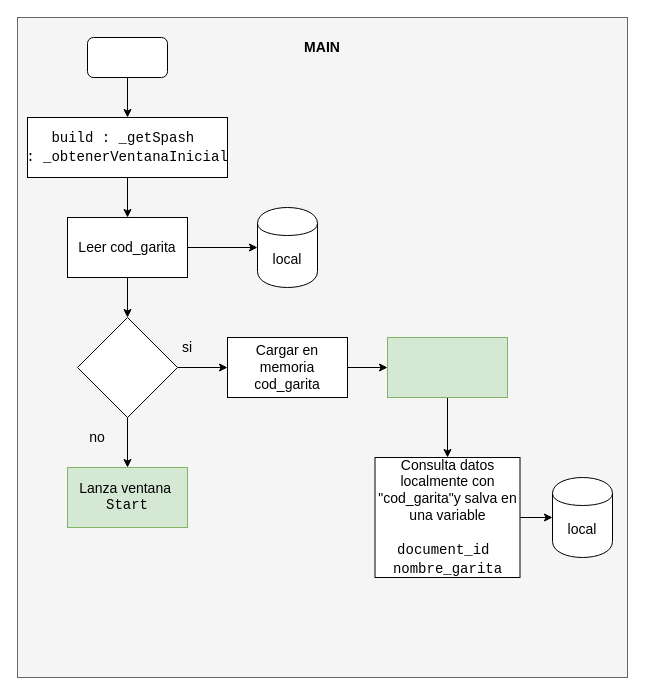
The diagram is 645 pixels wide and 695 high, and some of its shapes have lost their labels. The box of each missing label's shape, as (x1, y1, x2, y2) in pixels:
existe cod_garita: (76, 316, 178, 418)
INICIO: (86, 36, 168, 78)
Lanzar ventana ListCodes: (386, 336, 508, 398)
